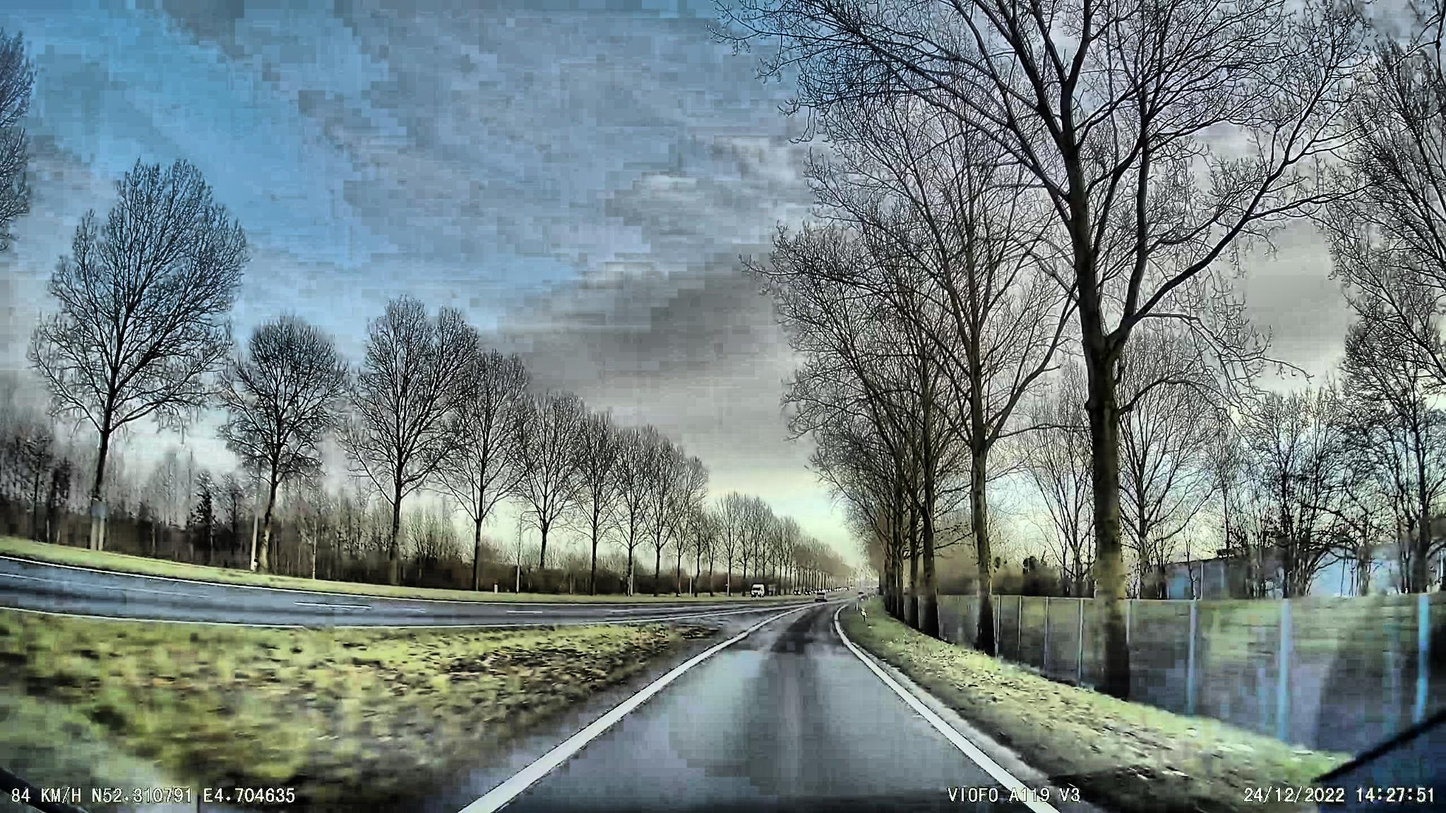Roads: (0, 557, 1100, 813)
